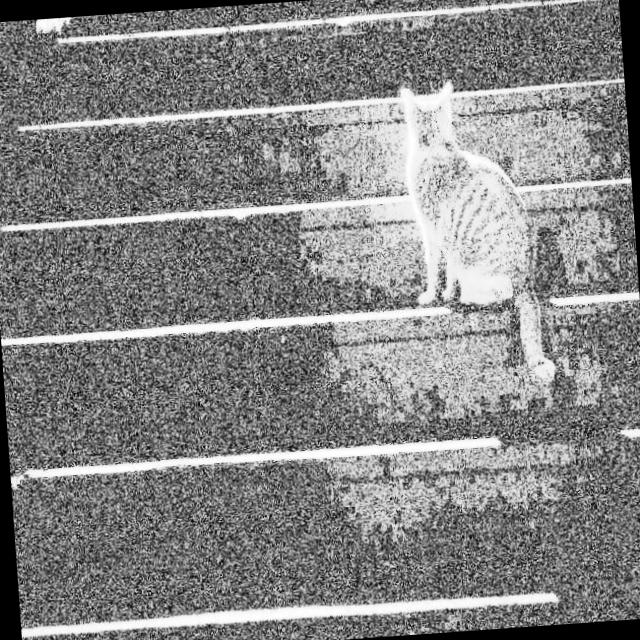Cat: (384, 58, 569, 421)
